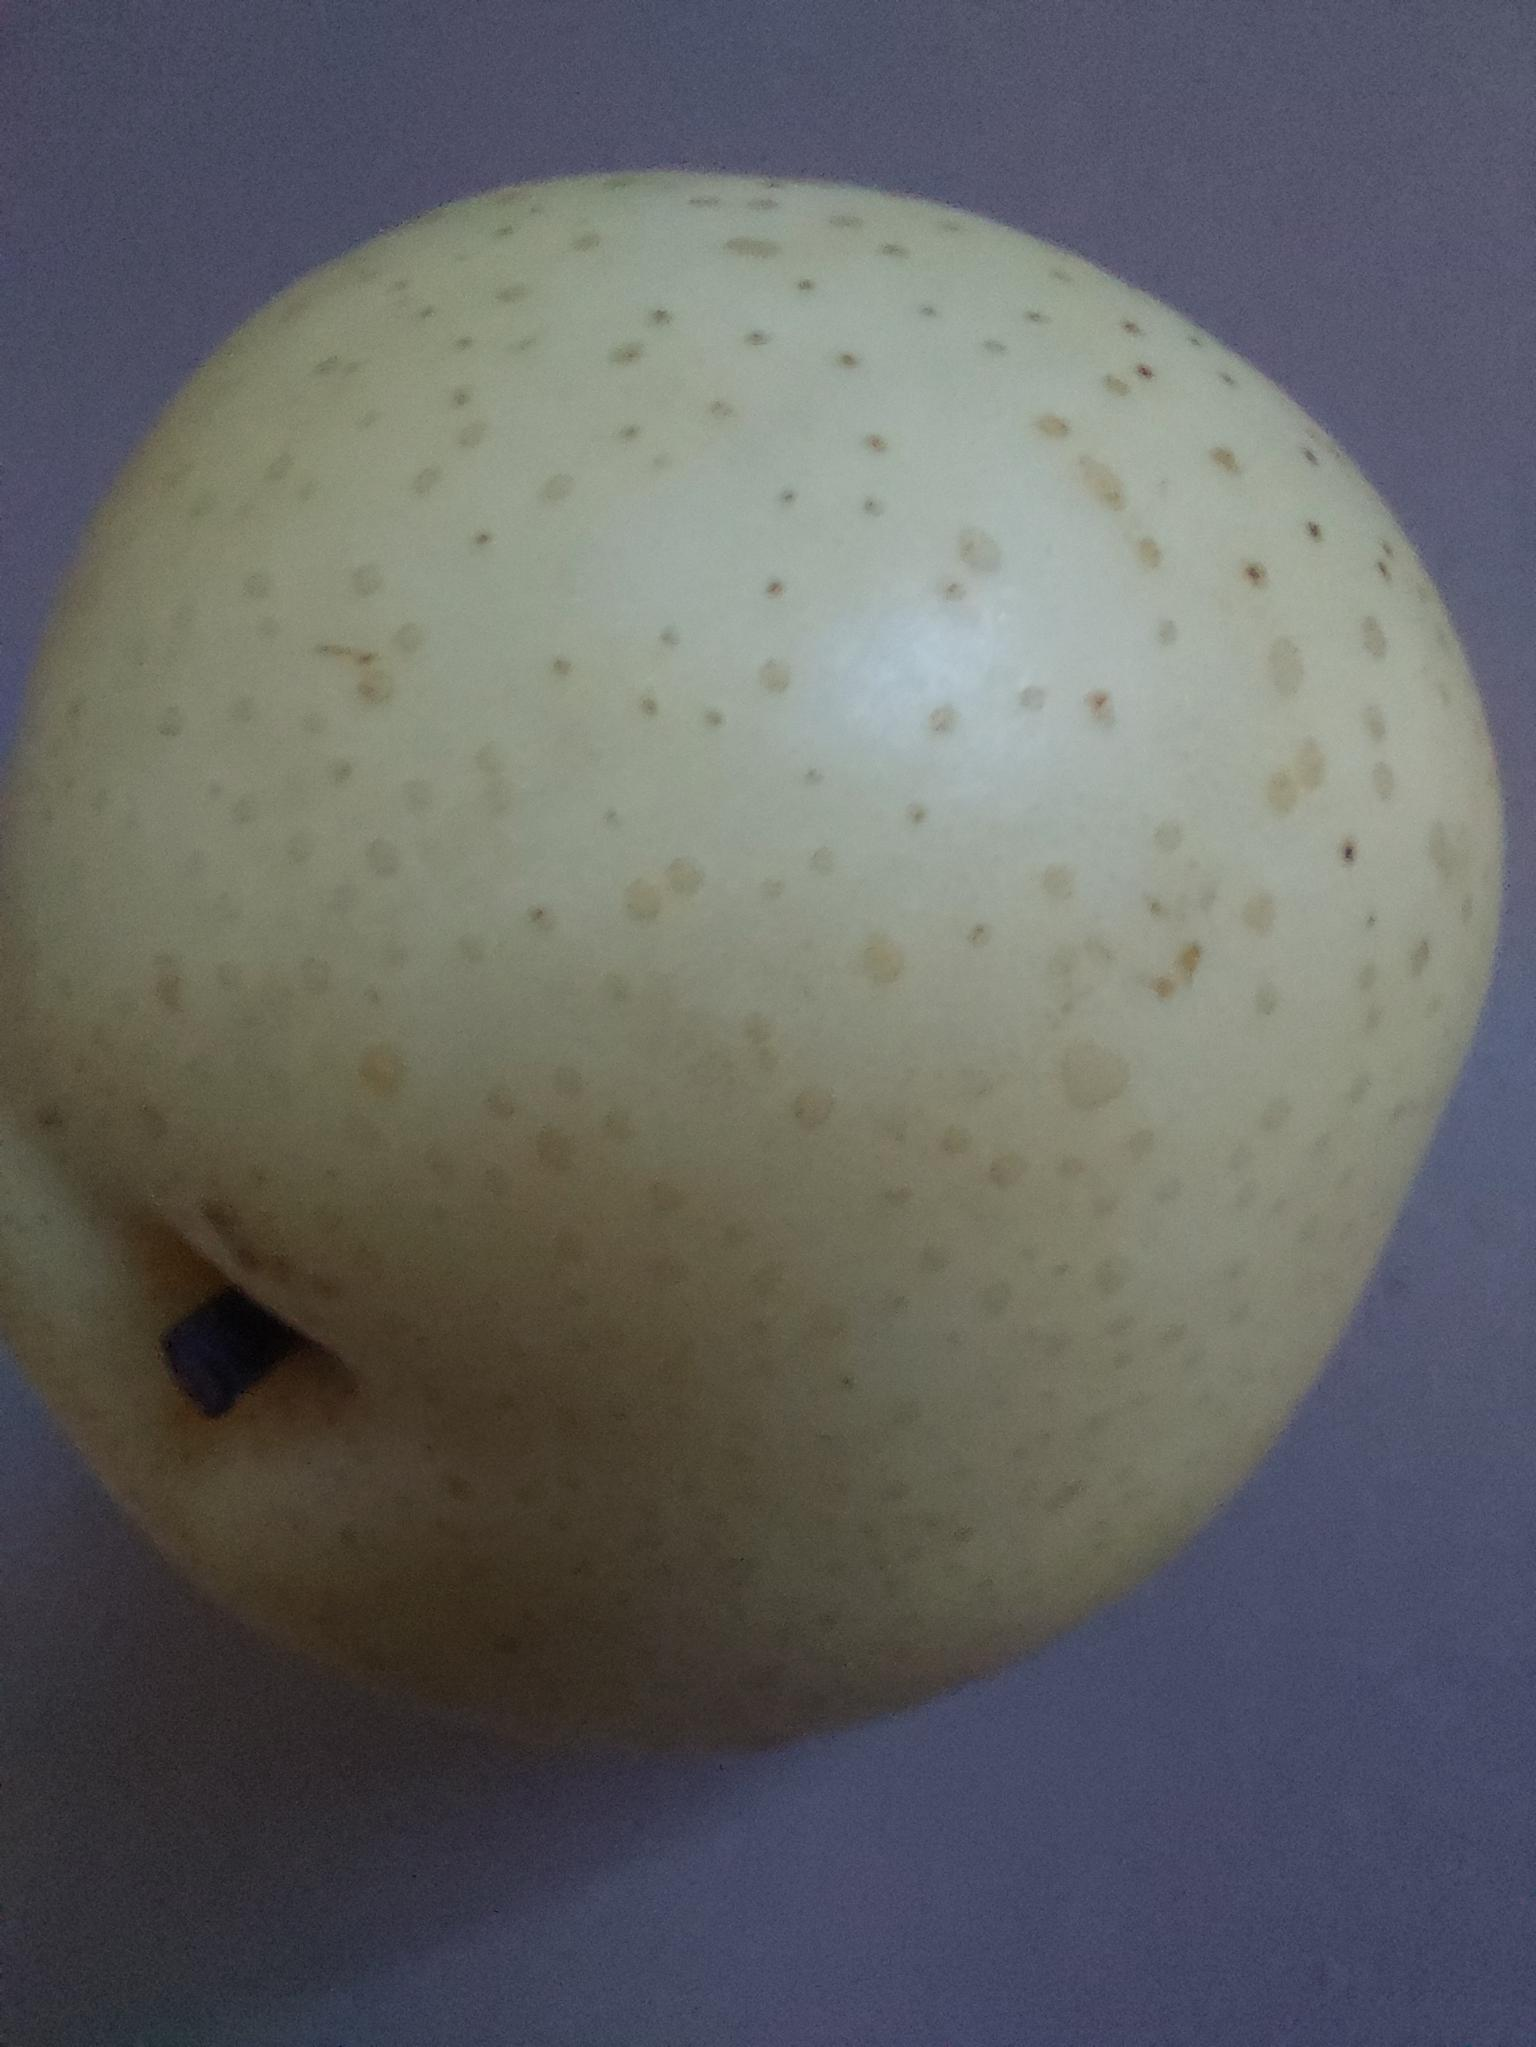Good Pear: (0, 100, 1536, 1855)
